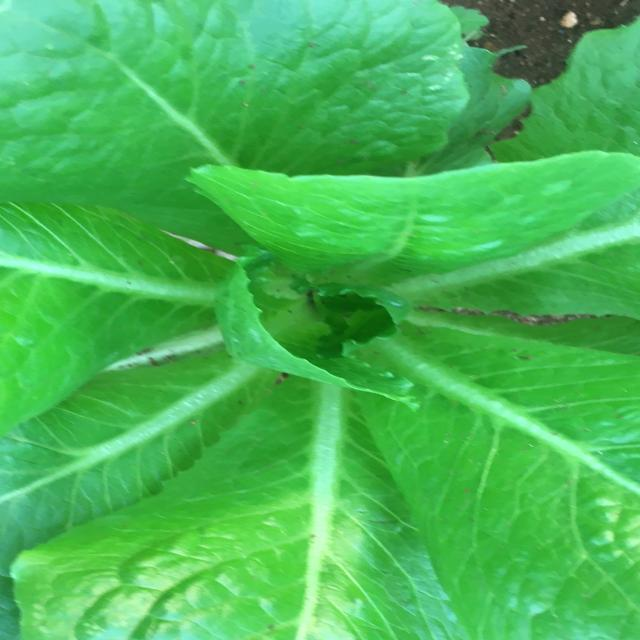Healthy Lettuce: (4, 4, 636, 635), (183, 148, 636, 277)
